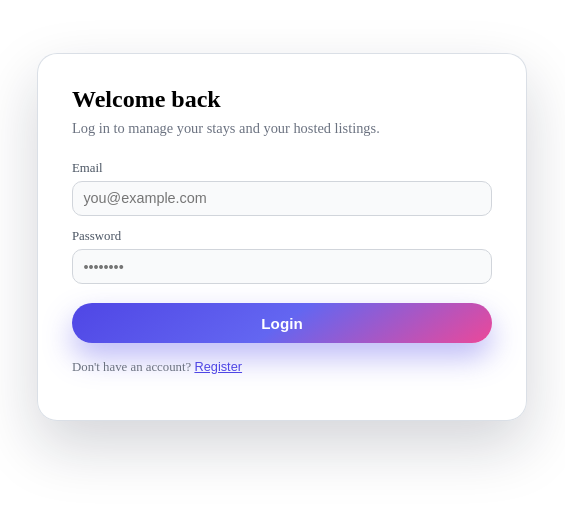
it: LoginPage › shows backend error when login fails
Type "bad@example.com" into the field labelled "Email".
click(282, 198); type("bad@example.com")  # box [72,180,492,216]
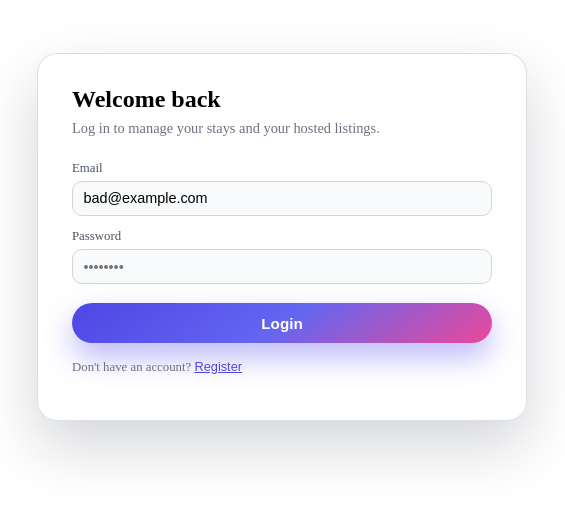
Type "wrong" into the password field labelled "Password".
click(282, 266); type("wrong")  # box [72,249,492,284]
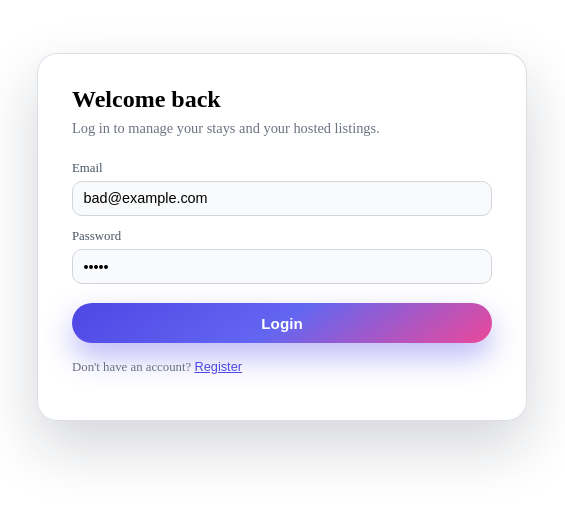
Submit the form with test id "login-form", box [72,161,492,343]
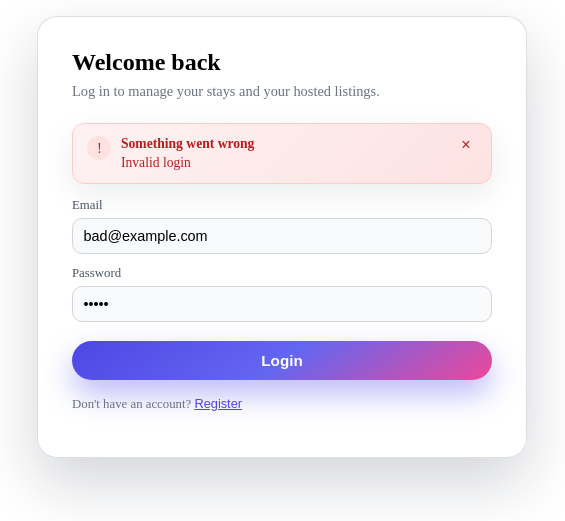
Check: the text "Invalid login" is shown, box [121,155,191,170]
